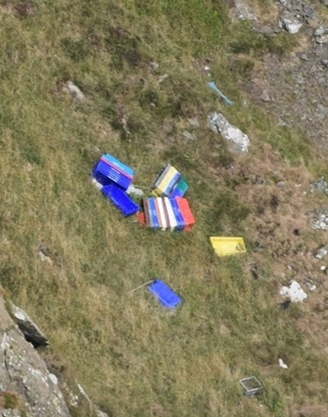scattered_barrel: (76, 140, 261, 328)
straight_bar: (203, 75, 238, 109)
white_in_green: (224, 357, 285, 408)
